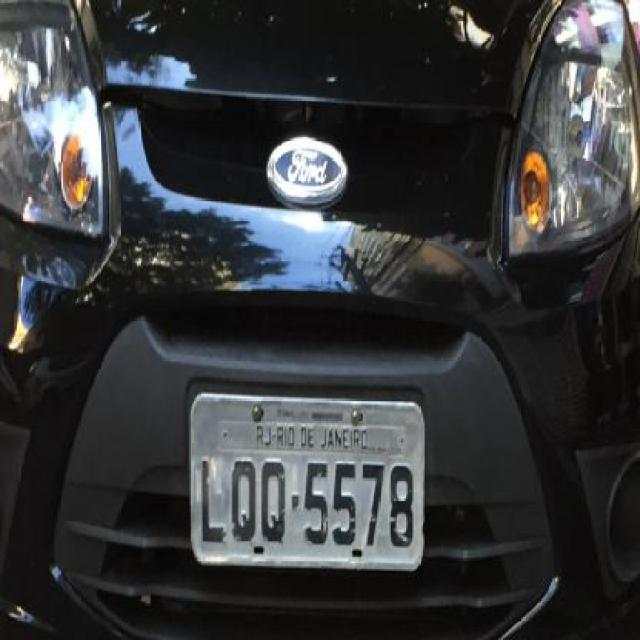old_plate: (180, 386, 436, 578)
